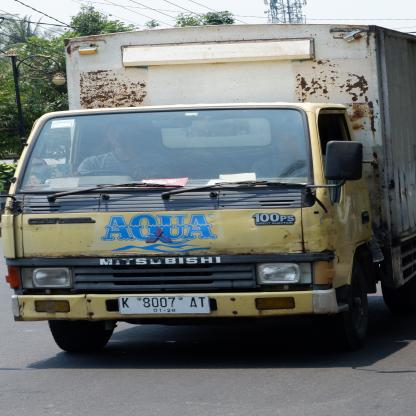Plat-Nomor: (115, 293, 212, 319)
